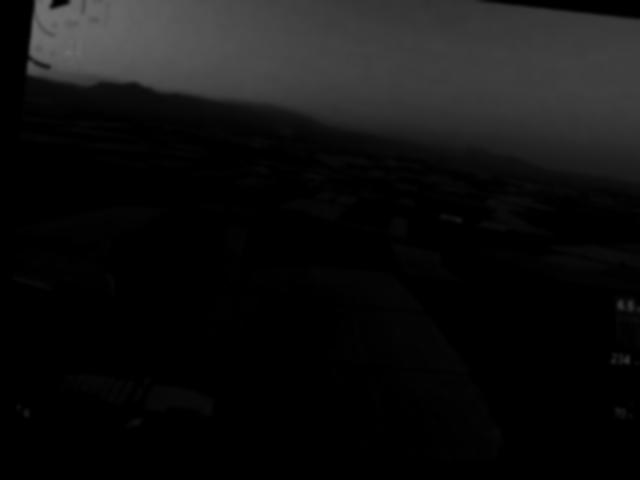hedef: (32, 338, 226, 463)
